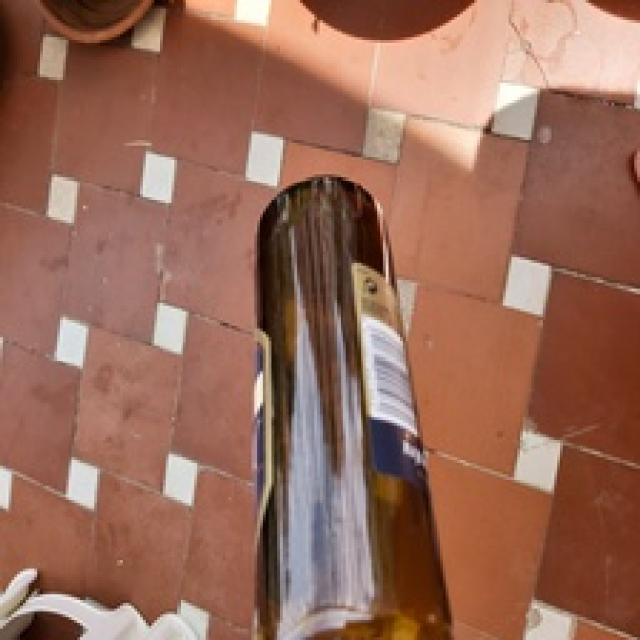Glass: (254, 175, 454, 640)
